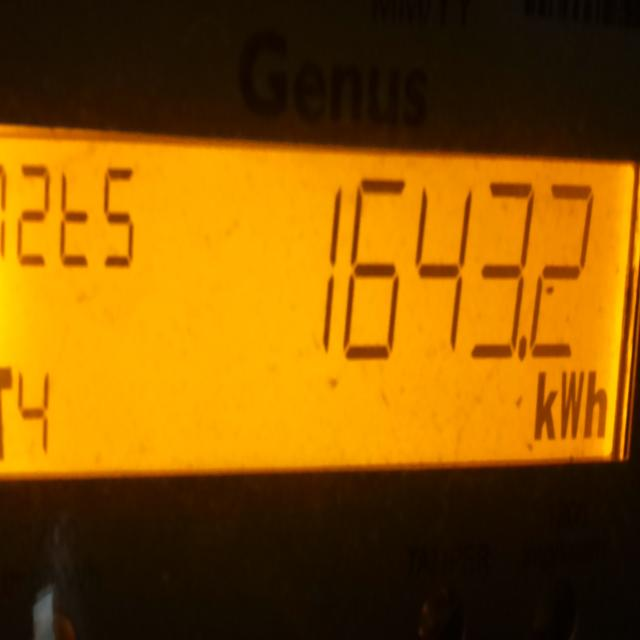.: (517, 332, 530, 364)
1: (327, 187, 343, 354)
2: (532, 182, 592, 354)
3: (472, 182, 530, 360)
4: (417, 189, 468, 352)
6: (345, 177, 401, 359)
